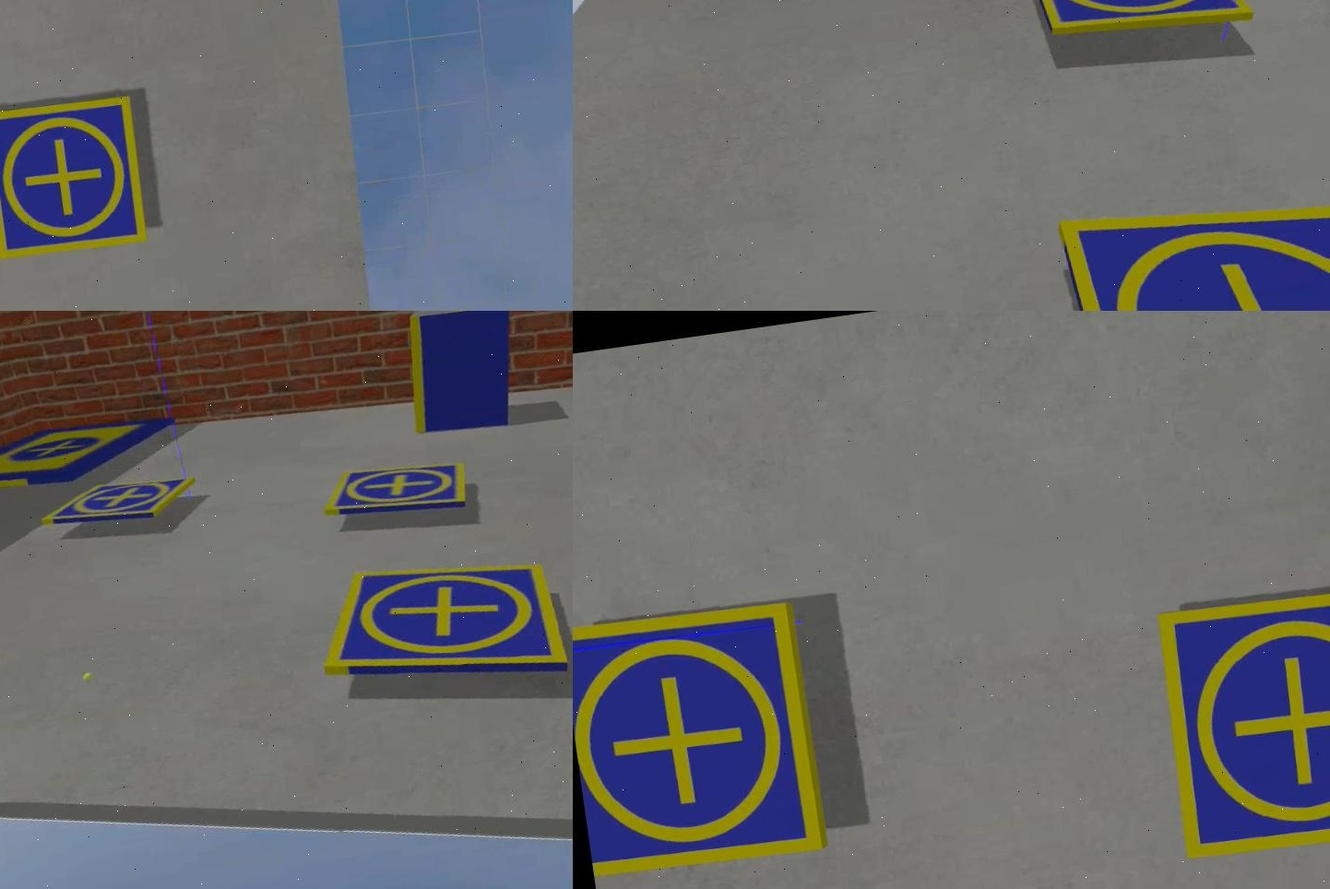large_base: (0, 409, 182, 505)
small_base: (572, 598, 826, 878), (1149, 575, 1328, 868), (312, 549, 567, 709), (1048, 175, 1328, 312), (0, 90, 149, 264), (315, 455, 469, 525), (39, 471, 204, 536), (1023, 1, 1250, 44)
